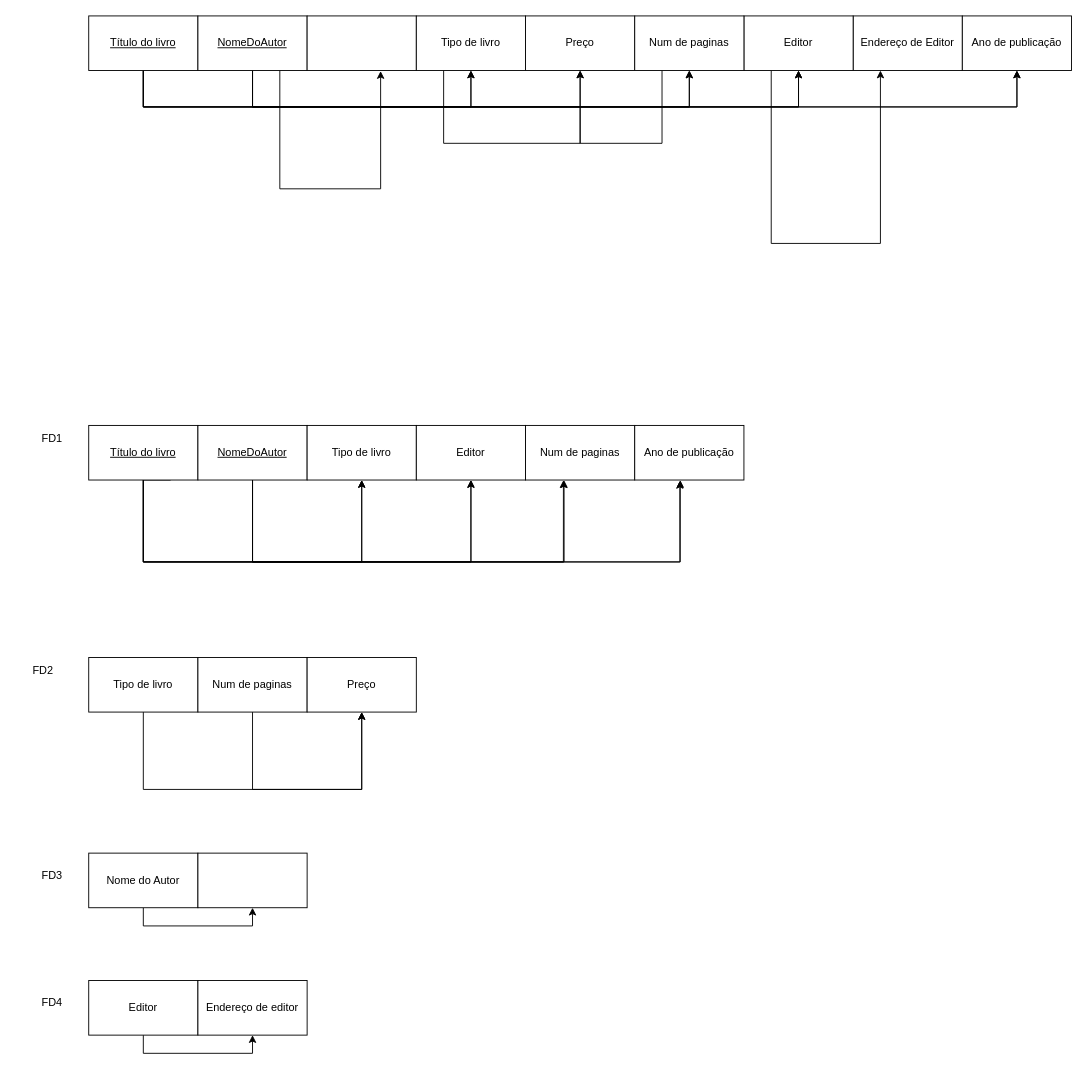
Some shapes in this 1087 by 1077 pixel diagram are drawn without their labels. Here are the shapes that lost their labels. From the top down, the box of each, then its label:
(306, 15, 416, 71): Afiliação do Autor
(197, 852, 307, 908): Afilicação do autor
